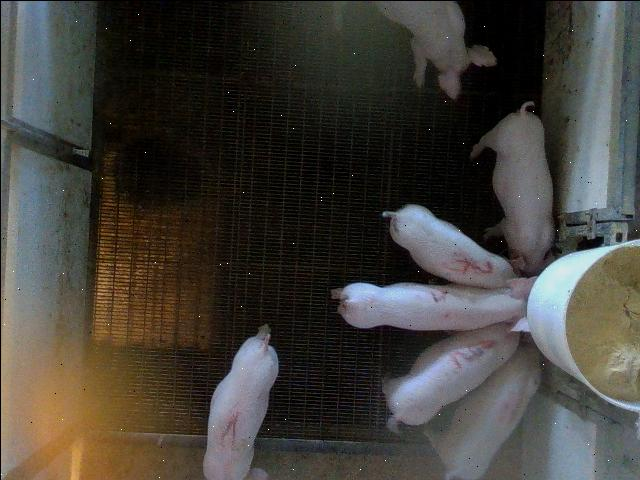pig-1: (202, 324, 278, 479)
pig-3: (381, 322, 518, 428)
pig-4: (426, 339, 540, 478)
pig-5: (381, 204, 524, 287)
